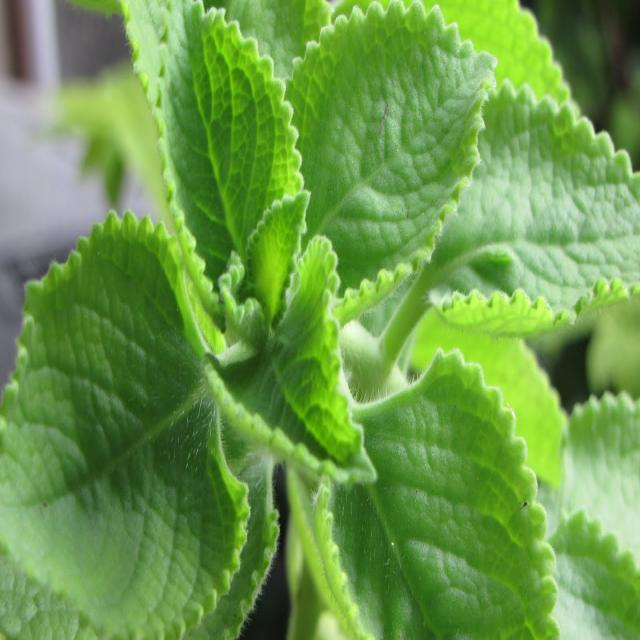Oregano: (154, 2, 532, 375)
